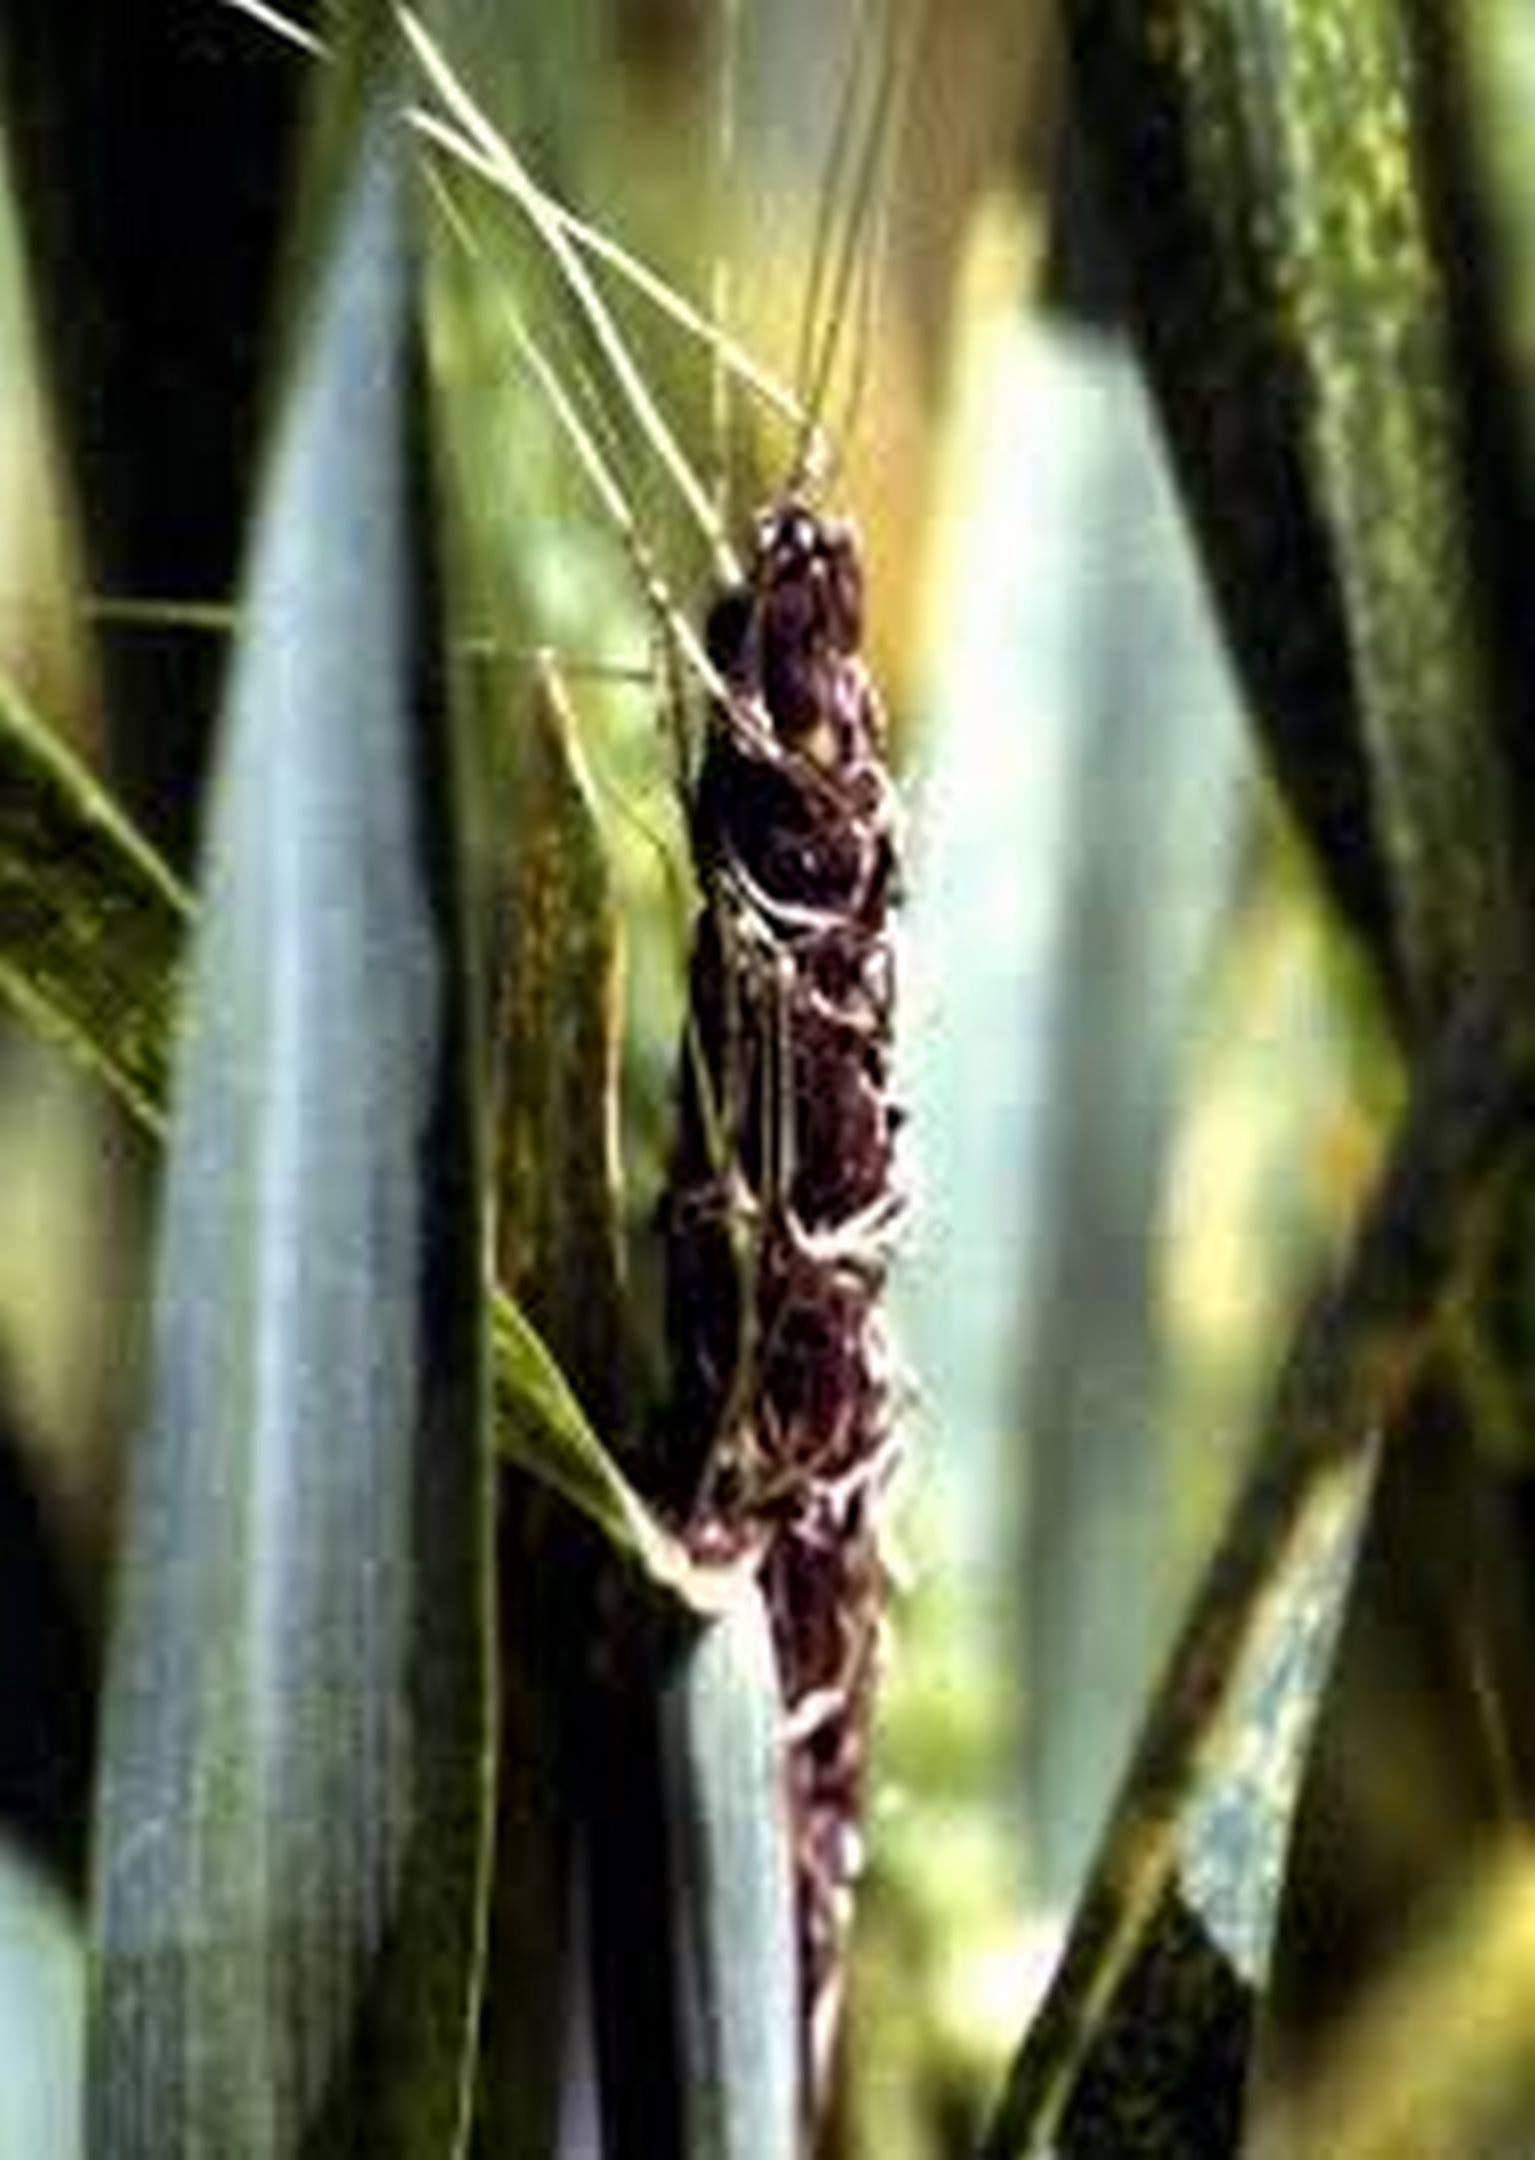Wheat Loose Smut: (590, 497, 975, 1703)
